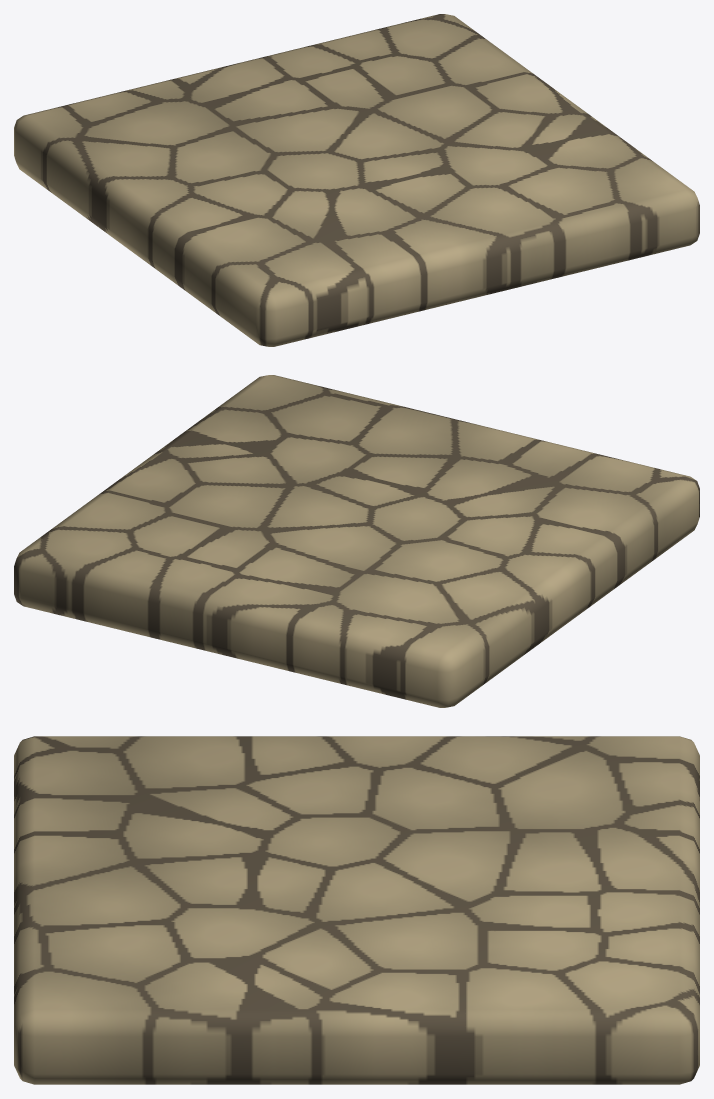
File: floor.glb
The picture shows the model from 3 angles, top to bottom: view 1: azimuth 30°, elevation 25°; view 2: azimuth 150°, elevation 25°; view 3: azimuth 270°, elevation 25°; orthographic projection. The views are drawn at different scales.
Visible parts, largest first — view 1: floor; view 2: floor; view 3: floor.
Part boxes in pixels (x1,y1,x2,y2): floor: (14,14,699,346); floor: (14,375,699,707); floor: (14,736,699,1084).
Bounding box in the file's own units: 1 × 0.12 × 1.
1 material, 1 textured.
